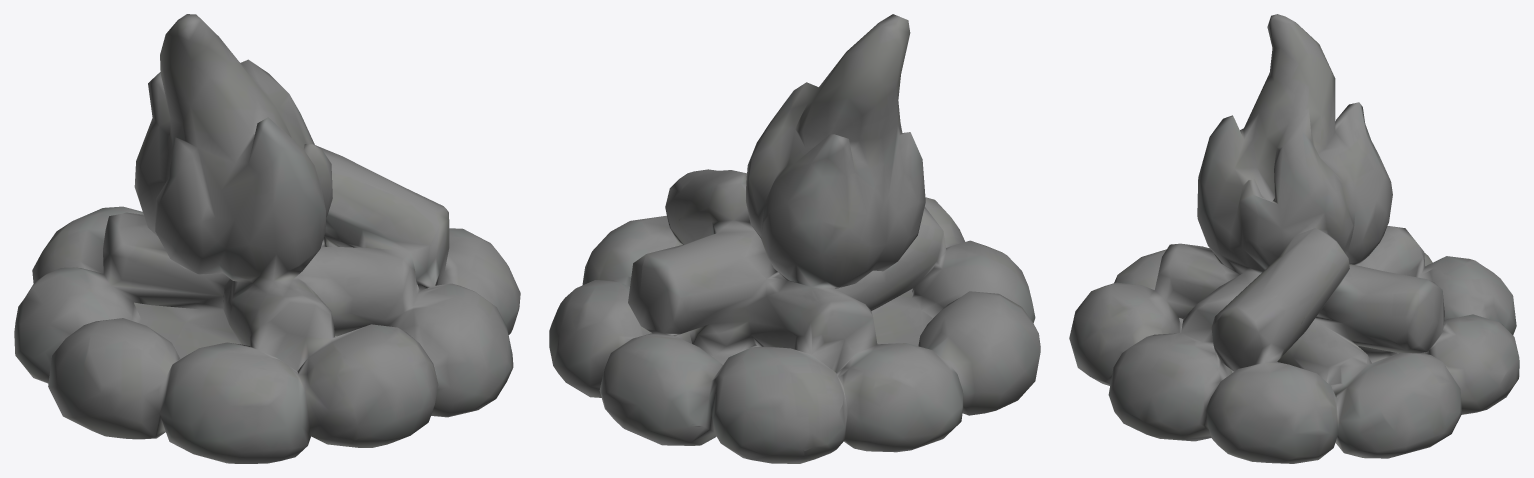
The model's file is f-firepit.glb.
The picture shows the model from 3 angles, left to right: view 1: azimuth 30°, elevation 25°; view 2: azimuth 150°, elevation 25°; view 3: azimuth 270°, elevation 25°; orthographic projection. The views are drawn at different scales.
Parts seen in each view (by area): view 1: tripo_node_c9eb5760-c58e-4733-9a1d-cab3e6f0d7a5; view 2: tripo_node_c9eb5760-c58e-4733-9a1d-cab3e6f0d7a5; view 3: tripo_node_c9eb5760-c58e-4733-9a1d-cab3e6f0d7a5.
Boxes of the visible parts, <box> form: tripo_node_c9eb5760-c58e-4733-9a1d-cab3e6f0d7a5: <box>14,14,520,463</box>; tripo_node_c9eb5760-c58e-4733-9a1d-cab3e6f0d7a5: <box>549,14,1040,463</box>; tripo_node_c9eb5760-c58e-4733-9a1d-cab3e6f0d7a5: <box>1069,14,1519,463</box>.
Size of the model in its own units: 0.9932 by 0.8137 by 1.
Materials: 1 (1 with a texture image).
